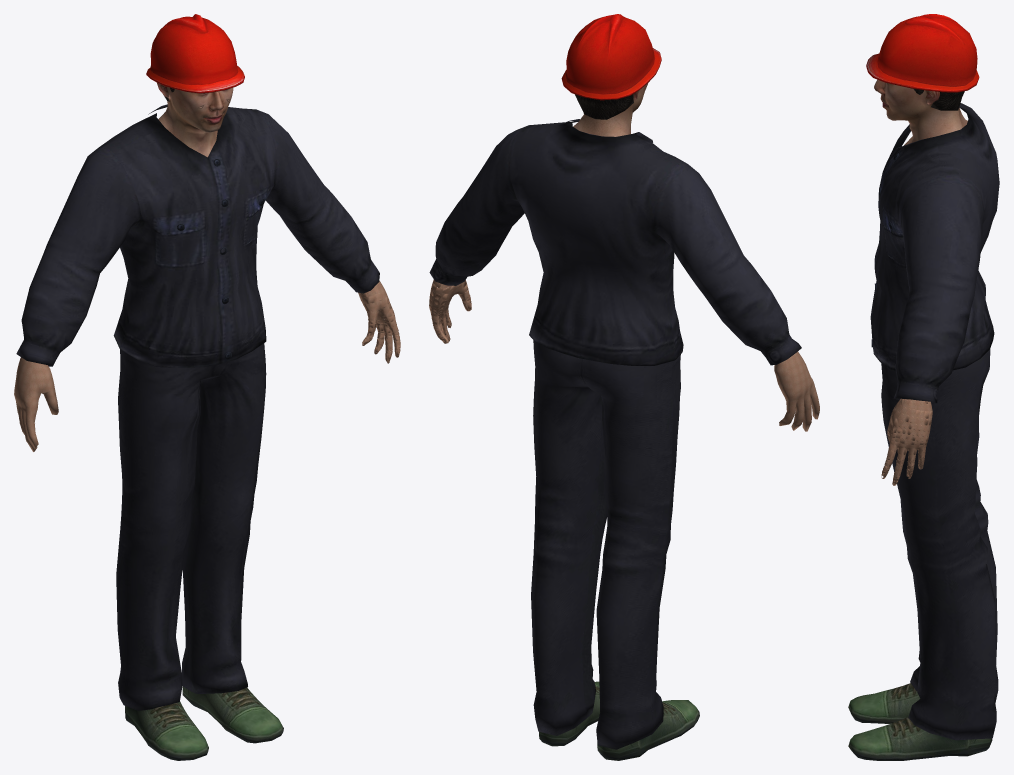
File: ren.glb
3 renders of one model, left to right at view 1: azimuth 30°, elevation 25°; view 2: azimuth 150°, elevation 25°; view 3: azimuth 270°, elevation 25°, orthographic.
Parts seen in each view (by area): view 1: zsy_Siji_Rig_cloths1; view 2: zsy_Siji_Rig_cloths1; view 3: zsy_Siji_Rig_cloths1.
Part boxes in pixels (<box>): zsy_Siji_Rig_cloths1: <box>14,14,400,760</box>; zsy_Siji_Rig_cloths1: <box>429,14,819,760</box>; zsy_Siji_Rig_cloths1: <box>848,14,999,760</box>.
Size of the model in its own units: 1.01 by 1.83 by 0.3511.
Materials: 6 (6 with a texture image).
